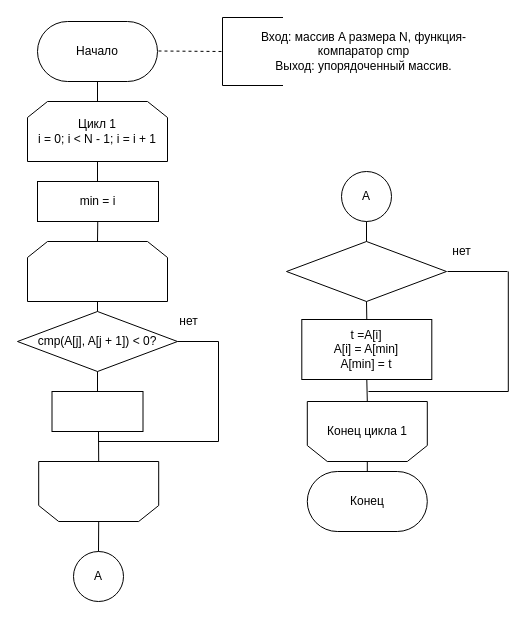
Image size: 527x619. Some labels were removed from this diagram. Here are the shapes that lost their labels. From the top down, the centre of each, then its label:
point 97,271: Цикл 2 j = i + 1; j < N; j = j + 1
point 366,271: min не равно i
point 97,411: min = j
point 98,491: Конец цикла 2
